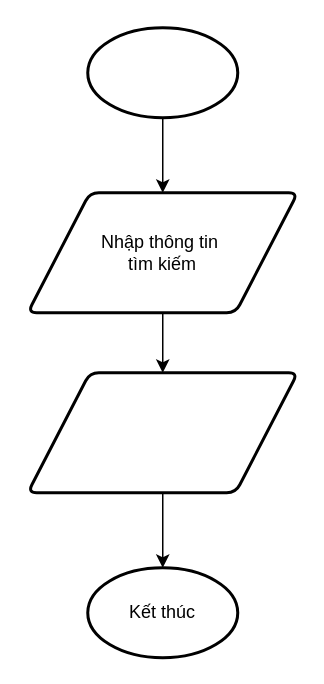
Image size: 324x684. Some labels were removed from this diagram. The centre of each missing label's shape, as x and y in pixels:
Bắt đầu: (x=162, y=72)
Hiển thị dựa trên thông tin tìm kiếm: (x=162, y=432)
